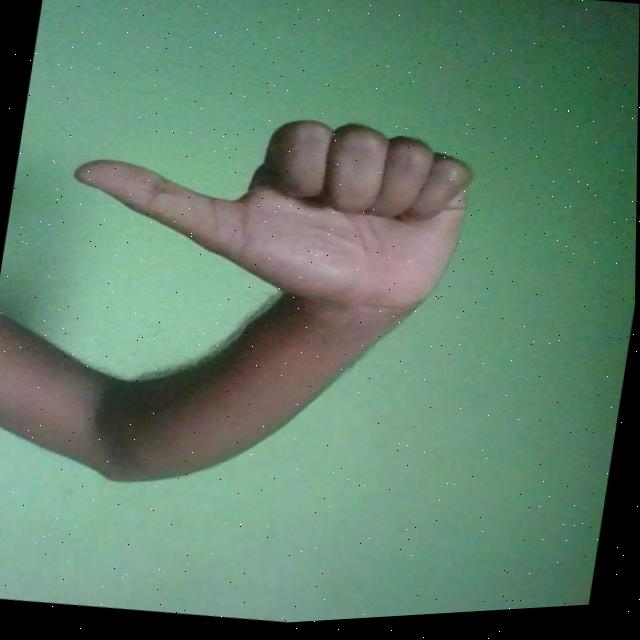Dislike: (54, 84, 481, 341)
